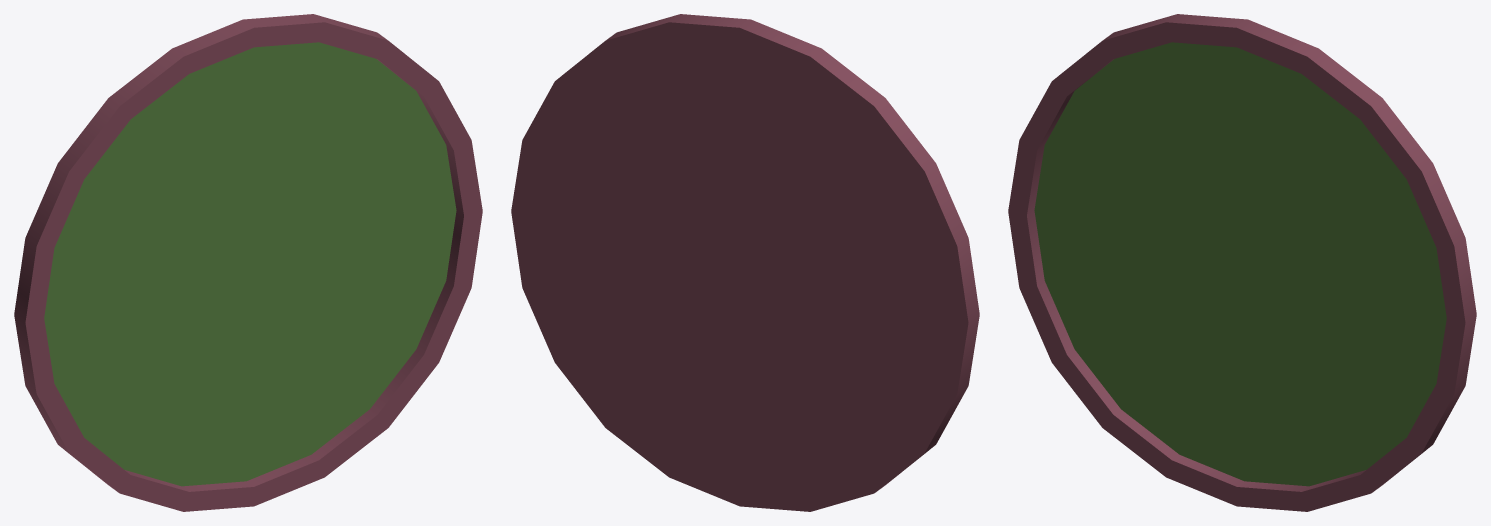
Rendered from PaintingRound.fbx.
3 views of the same model, side by side, from view 1: azimuth 30°, elevation 25°; view 2: azimuth 150°, elevation 25°; view 3: azimuth 330°, elevation 25° (orthographic).
Visible parts, largest first — view 1: paintingRound; view 2: paintingRound; view 3: paintingRound.
Boxes of the visible parts, <box> form: paintingRound: <box>14,14,482,511</box>; paintingRound: <box>511,14,979,511</box>; paintingRound: <box>1008,14,1476,511</box>.
Bounding box in the file's own units: 0.8619 × 0.8619 × 0.0369.
